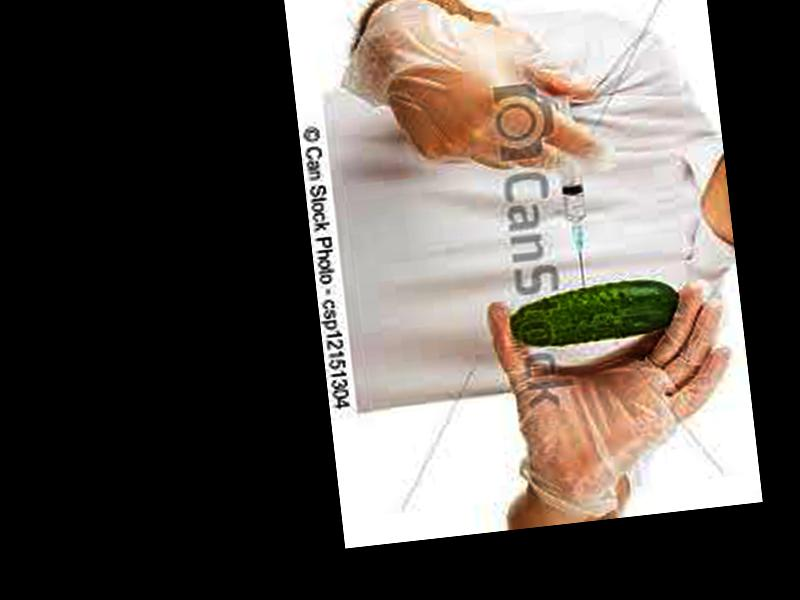Cucumber: (509, 277, 687, 352)
